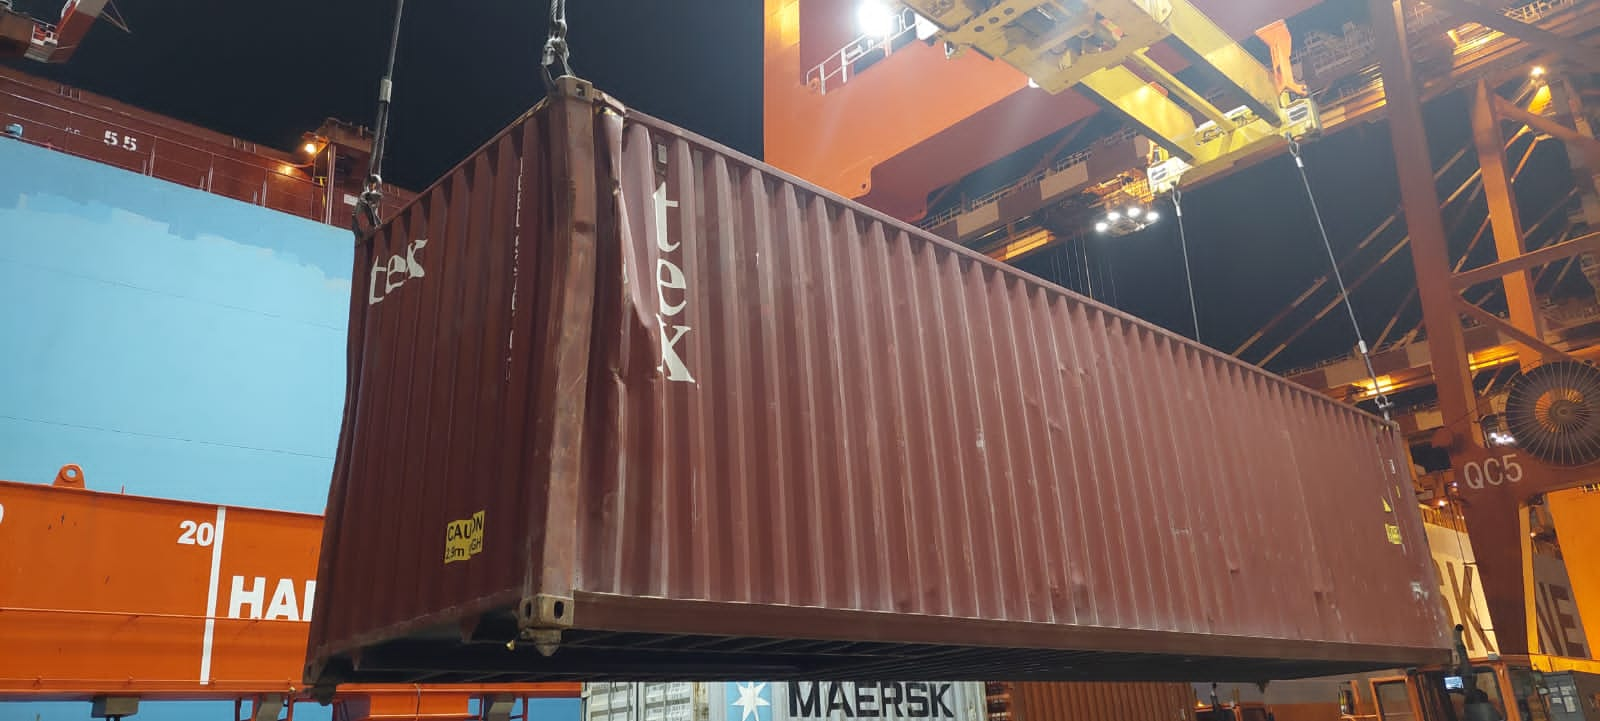moderate: (571, 98, 676, 390), (1212, 556, 1253, 576), (1311, 586, 1331, 608)
